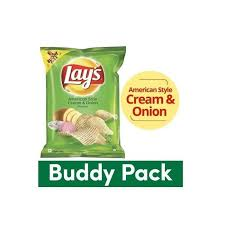lays-med: (38, 42, 125, 156)
